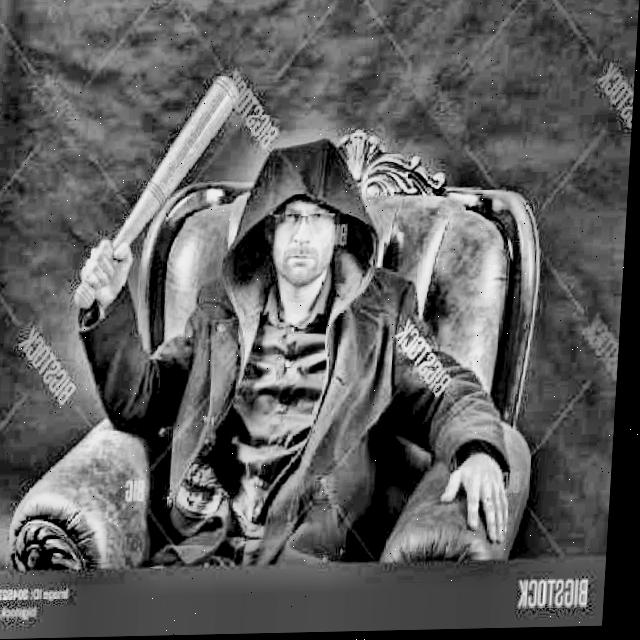tongkat pemukul: (59, 69, 252, 311)
